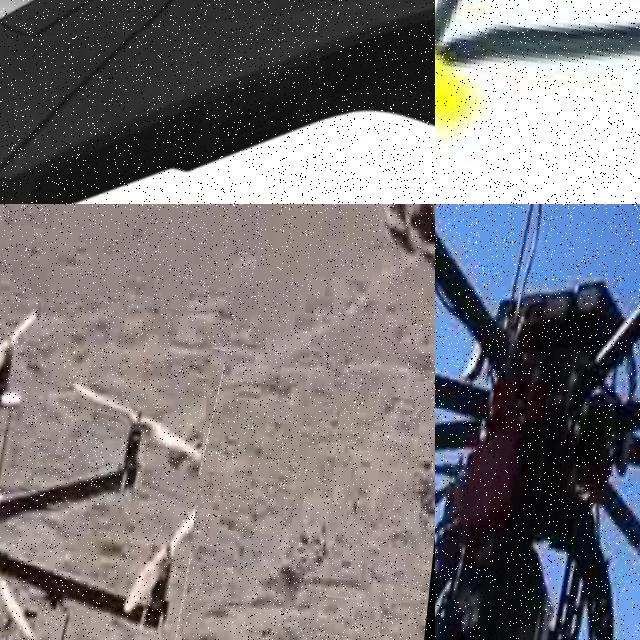0: (435, 204, 640, 640), (0, 271, 215, 640)
drone: (0, 0, 435, 204), (435, 0, 640, 204)
